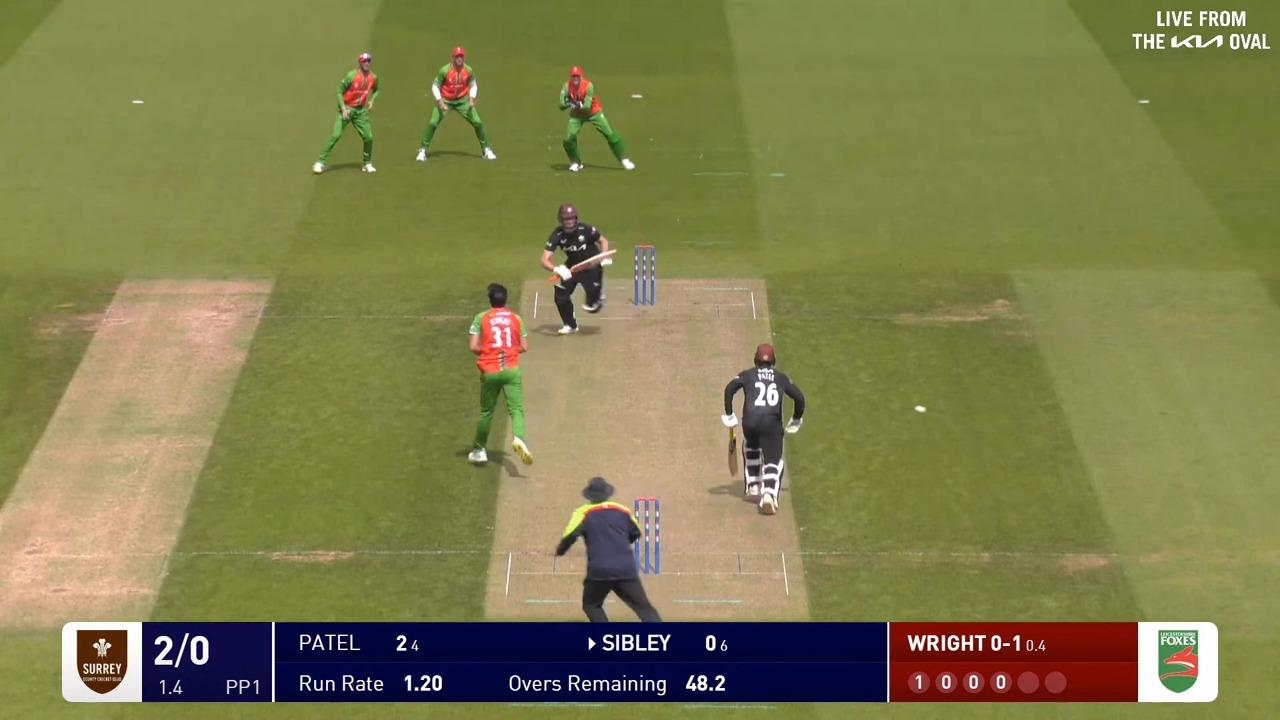sports ball: (915, 405, 926, 412)
